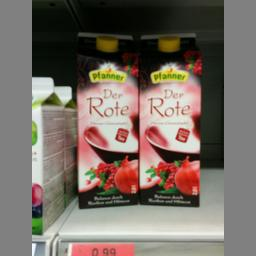juice: (135, 31, 202, 207), (73, 30, 137, 208)
